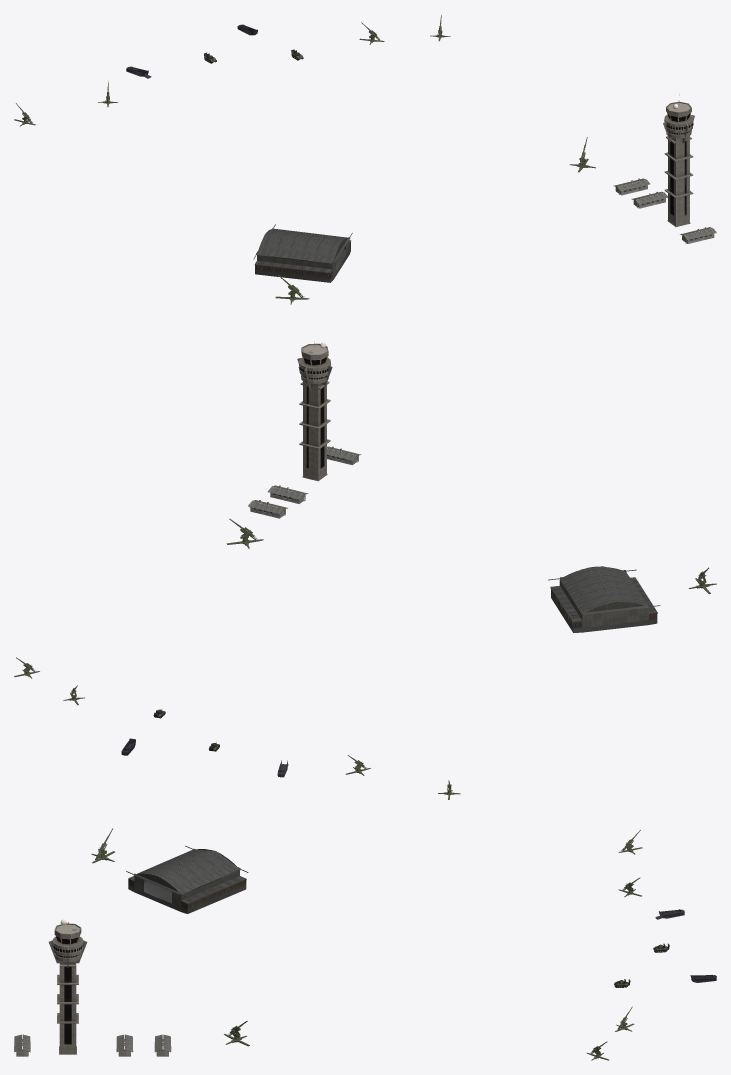
Rendered from UtahBeach.glb.
3 renders of one model, top to bottom at view 1: azimuth 30°, elevation 25°; view 2: azimuth 150°, elevation 25°; view 3: azimuth 270°, elevation 25°, orthographic. The views are drawn at different scales.
Parts seen in each view (by area): view 1: Object_2, Tower_AirTower01MAT_0; view 2: Object_2, Tower_AirTower01MAT_0; view 3: Object_2, Tower_AirTower01MAT_0.
Boxes of the visible parts, x1,y1,x2,y2 form: Object_2: (253, 224, 352, 282); Tower_AirTower01MAT_0: (663, 92, 694, 226); Object_2: (548, 566, 660, 632); Tower_AirTower01MAT_0: (297, 341, 332, 481); Object_2: (126, 845, 248, 913); Tower_AirTower01MAT_0: (48, 919, 87, 1054).
Size of the model in its own units: 211 by 64.79 by 292.
25 materials, 7 textured.
